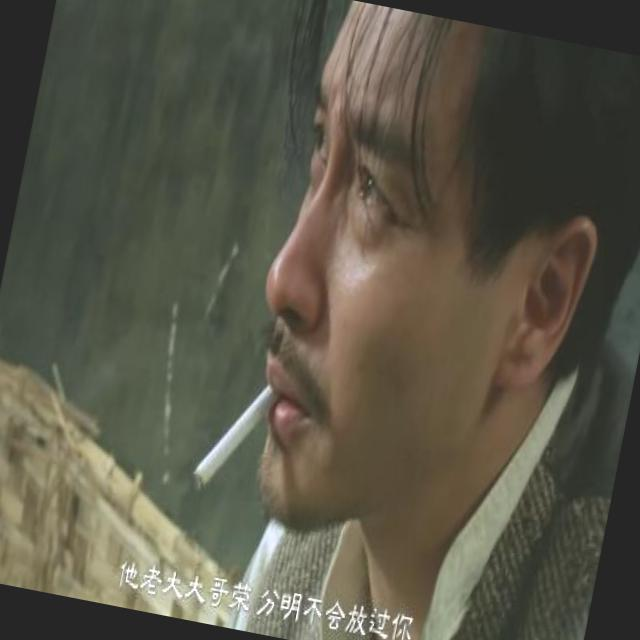smoke: (180, 366, 296, 511)
